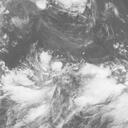cyclone: (33, 47, 93, 115)
